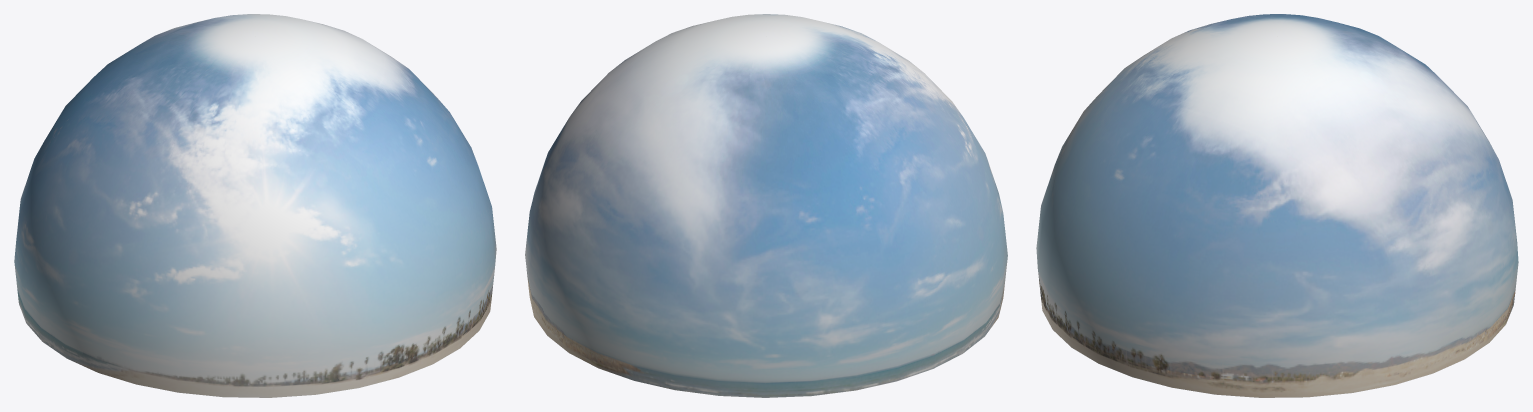
Rendered from Skybox_map6.fbx.
3 views of the same model, side by side, from view 1: azimuth 30°, elevation 25°; view 2: azimuth 150°, elevation 25°; view 3: azimuth 270°, elevation 25° (orthographic).
Parts seen in each view (by area): view 1: Skybox_map6; view 2: Skybox_map6; view 3: Skybox_map6.
Part boxes in pixels (left/top/right/bottom): Skybox_map6: left=14, top=14, right=496, bottom=397; Skybox_map6: left=525, top=14, right=1007, bottom=397; Skybox_map6: left=1036, top=14, right=1518, bottom=397.
Size of the model in its own units: 54941 by 32910 by 54941.
